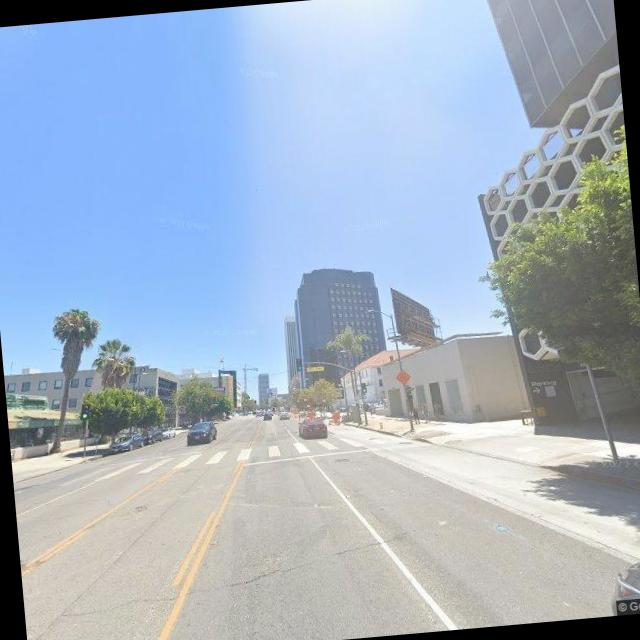crack: (56, 533, 402, 628)
